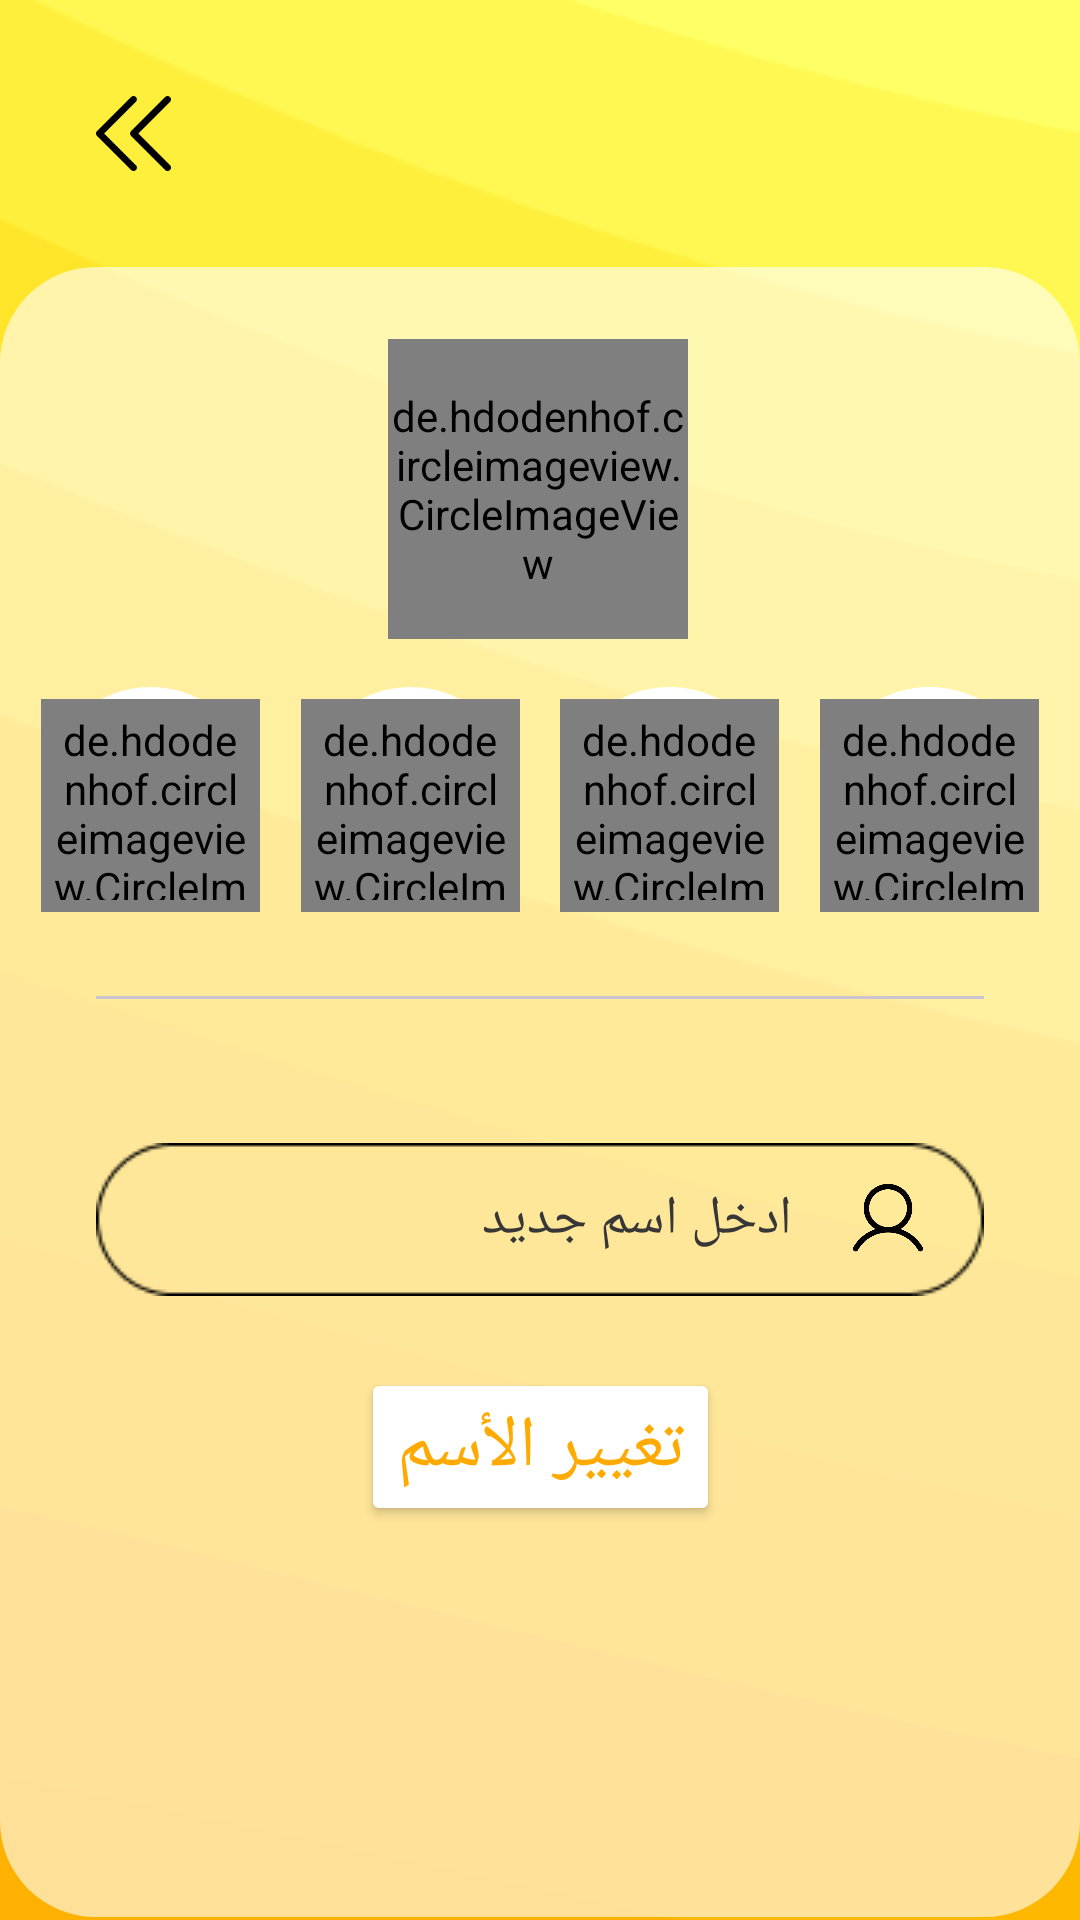

Named icons in this screenshot (1080 x 1920) and their centers, [x,y]:
back: [133,133]
